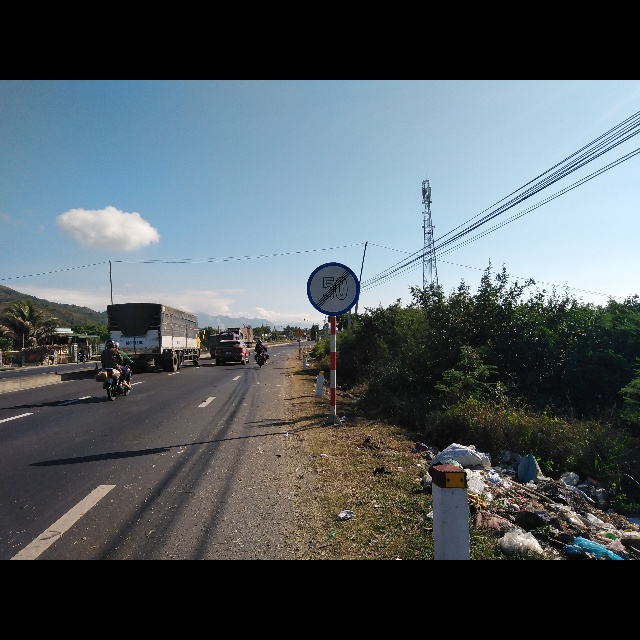Hết hạn chế tốc độ tối đa 50km/h: (304, 256, 362, 316)
